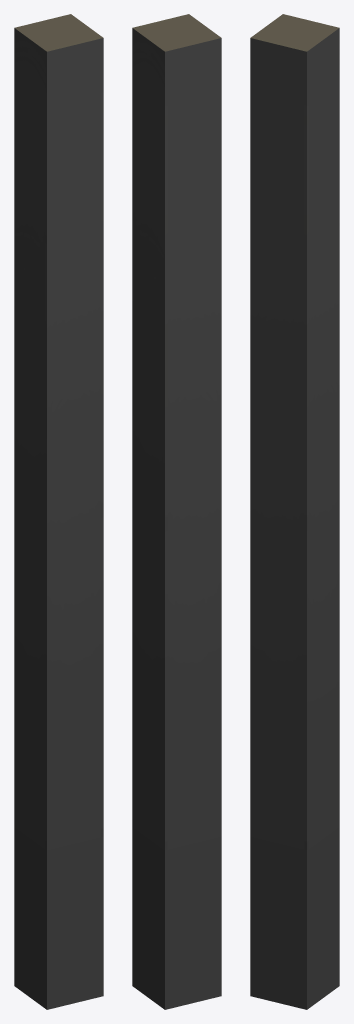
Rendered from my_newyearpath_01_wall_side.glb.
The picture shows the model from 3 angles, left to right: view 1: azimuth 30°, elevation 25°; view 2: azimuth 210°, elevation 25°; view 3: azimuth 330°, elevation 25°; orthographic projection.
Parts seen in each view (by area): view 1: my_newyearpath_01_wall_side; view 2: my_newyearpath_01_wall_side; view 3: my_newyearpath_01_wall_side.
Part boxes in pixels (x1,y1,x2,y2): my_newyearpath_01_wall_side: (14,14,103,1009); my_newyearpath_01_wall_side: (132,14,221,1009); my_newyearpath_01_wall_side: (250,14,339,1009).
Size of the model in its own units: 0.00297 by 0.048 by 0.00297.
1 material, 1 textured.
